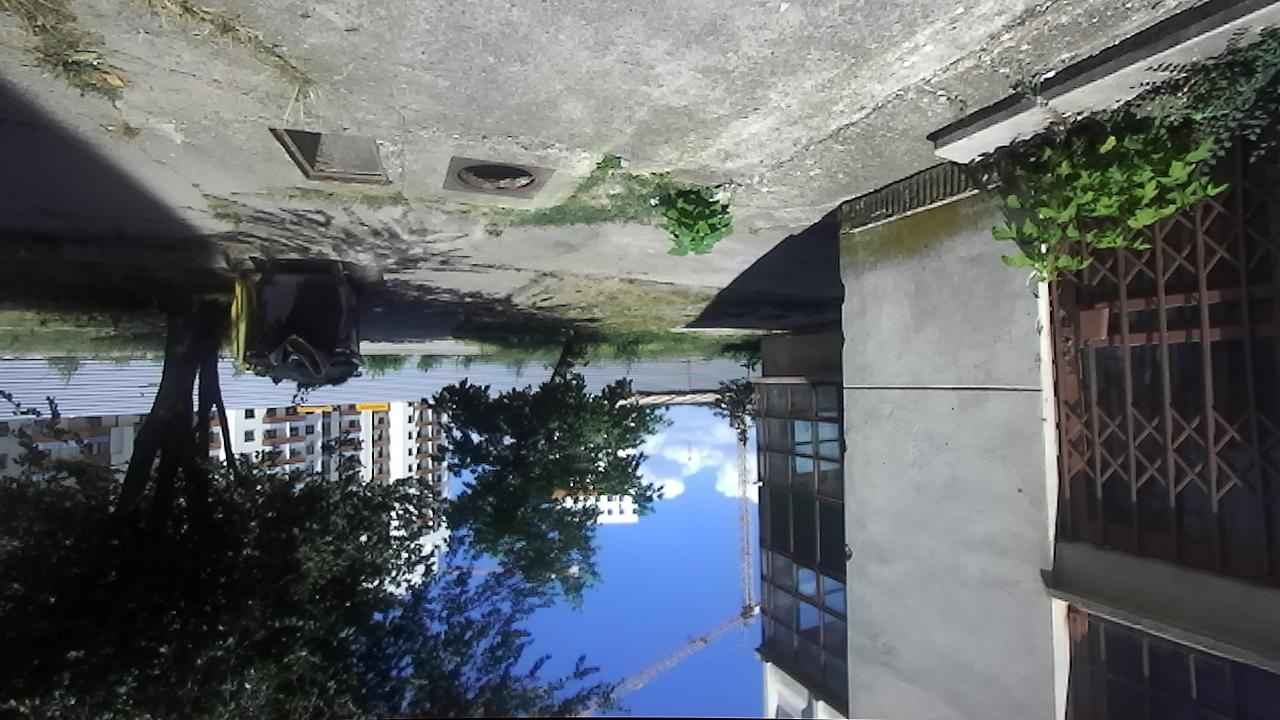drain: (264, 122, 394, 189), (451, 158, 539, 199)
